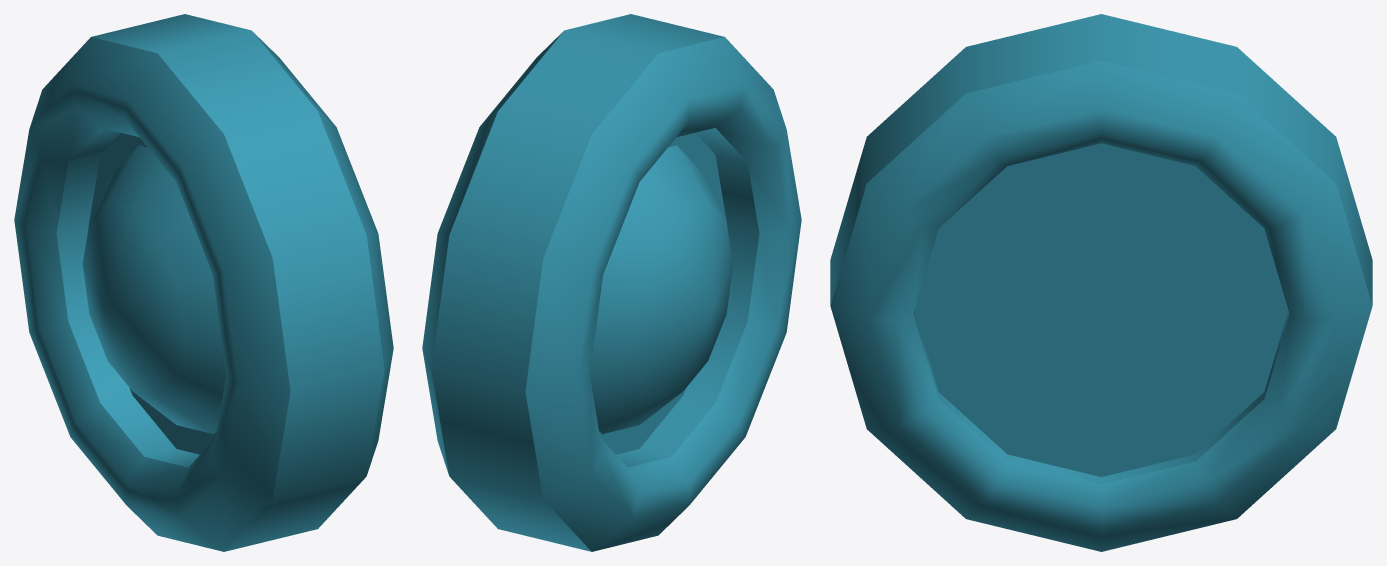
File: IWheel_B_Right.FBX
3 renders of one model, left to right at view 1: azimuth 30°, elevation 25°; view 2: azimuth 150°, elevation 25°; view 3: azimuth 270°, elevation 25°, orthographic.
Parts seen in each view (by area): view 1: Wheel_B_Right; view 2: Wheel_B_Right; view 3: Wheel_B_Right.
Part boxes in pixels (<box>): Wheel_B_Right: <box>14,14,393,551</box>; Wheel_B_Right: <box>422,14,801,551</box>; Wheel_B_Right: <box>830,14,1372,551</box>.
Size of the model in its own units: 2.34 by 6.12 by 6.12.
